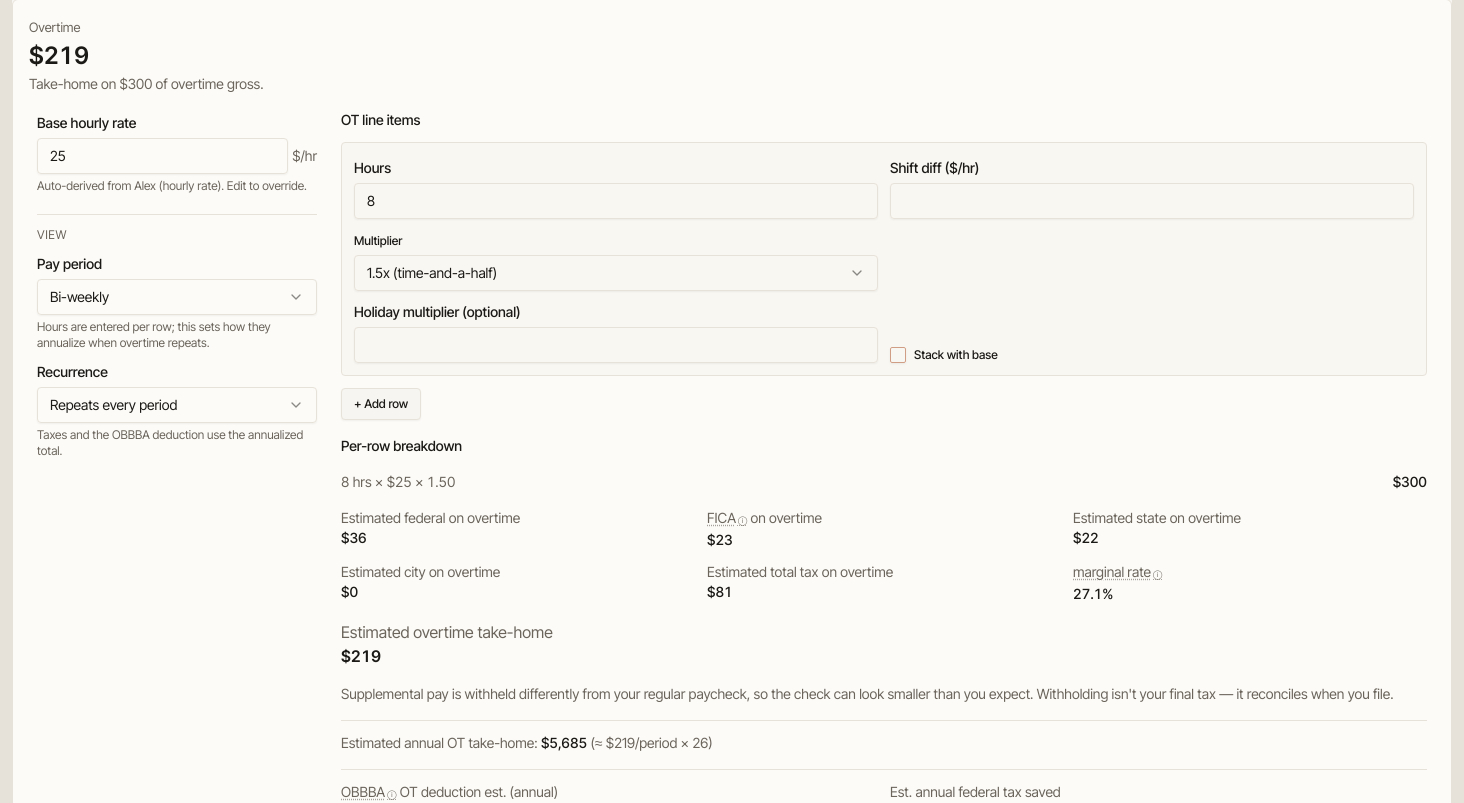
Test: OvertimeCard › OBBBA deduction uses only the QUALIFIED half-time premium for a double-time row (wave-9 M62)
Expected: the text with test id "ot-takehome" is shown, [29, 40, 89, 70]
What coordinates should you click on to do the following:
click the dropdown named "multiplier"
I would click on:
 (432, 272)
Its box is [354, 254, 878, 290].
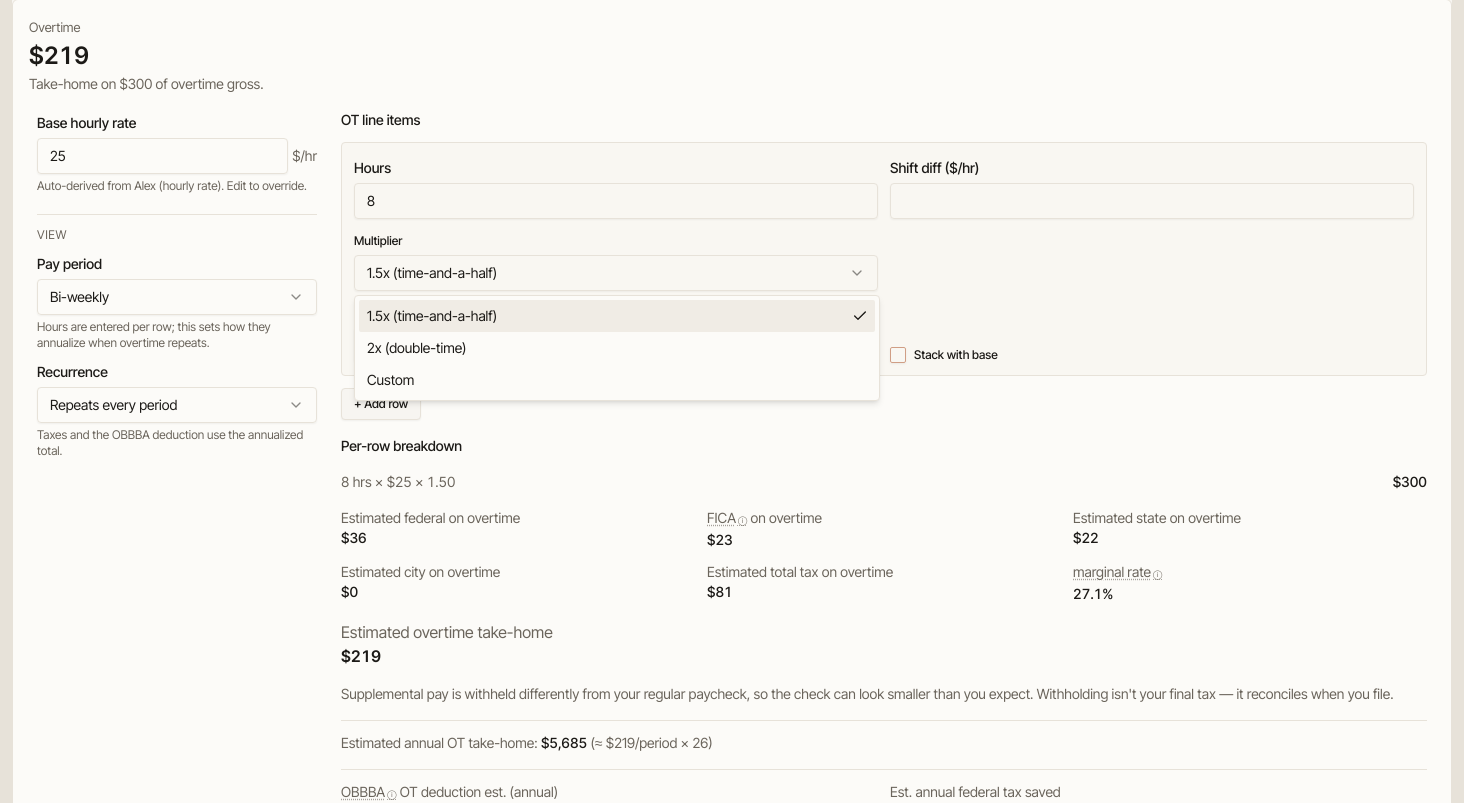
What coordinates should you click on to do the following:
click the option "2x (double-time)"
I would click on:
 (417, 348)
Its box is [367, 339, 466, 356].
(page scrolled)
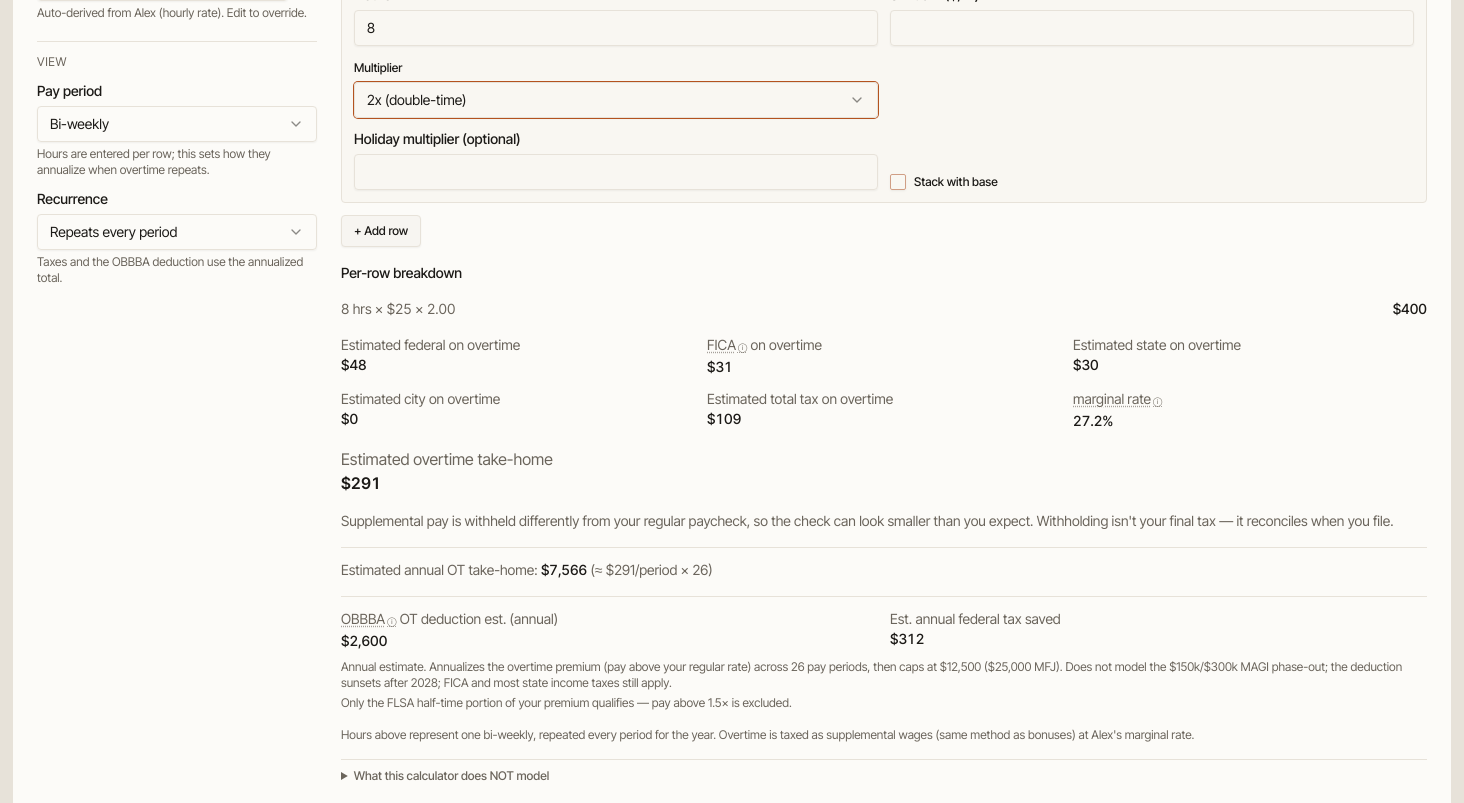
Expected: the text "$2,600" is shown, [341, 632, 387, 648]
Now the text "Only the FLSA half-time portion of your premium qualifies" is shown, box [341, 694, 792, 710]
